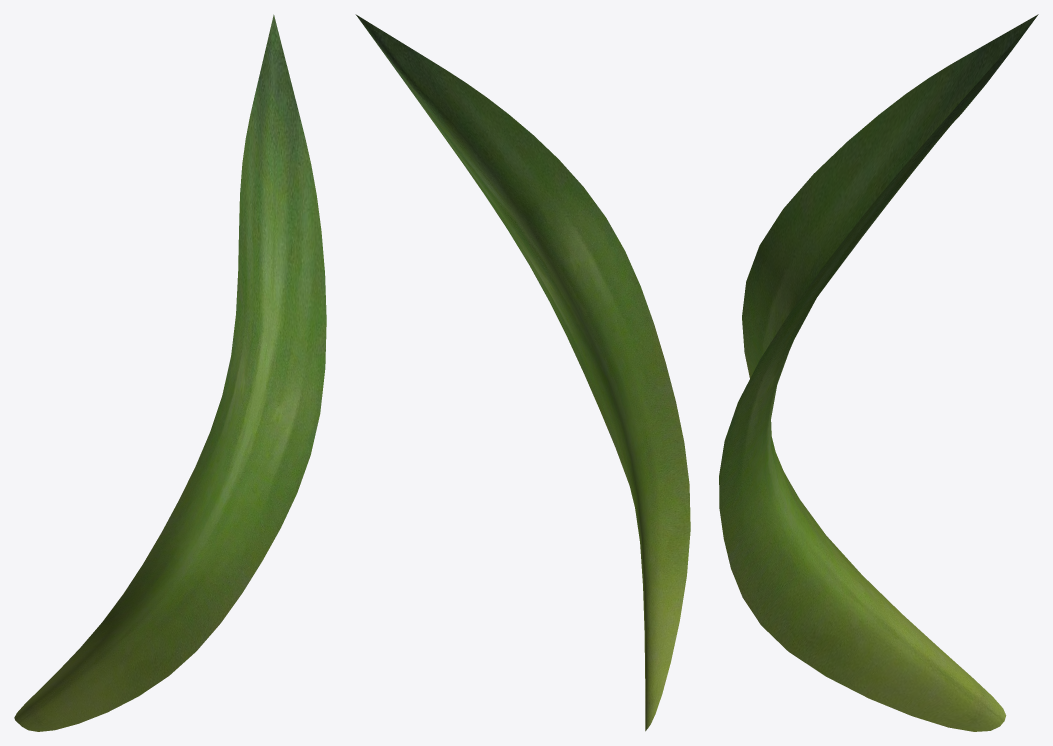
The picture shows the model from 3 angles, left to right: view 1: azimuth 30°, elevation 25°; view 2: azimuth 150°, elevation 25°; view 3: azimuth 270°, elevation 25°; orthographic projection. The views are drawn at different scales.
Visible parts, largest first — view 1: indoor plant_02.007; view 2: indoor plant_02.007; view 3: indoor plant_02.007.
Boxes of the visible parts, x1,y1,x2,y2 form: indoor plant_02.007: [14, 14, 326, 731]; indoor plant_02.007: [355, 14, 690, 731]; indoor plant_02.007: [719, 14, 1038, 731].
Bounding box in the file's own units: 0.5217 × 1.17 × 0.3769.
Materials: 1 (1 with a texture image).
